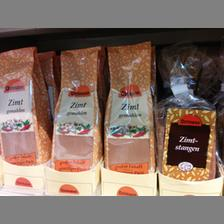Gewuerze: (106, 41, 154, 176), (158, 79, 218, 181), (52, 46, 100, 170), (0, 46, 48, 166)
